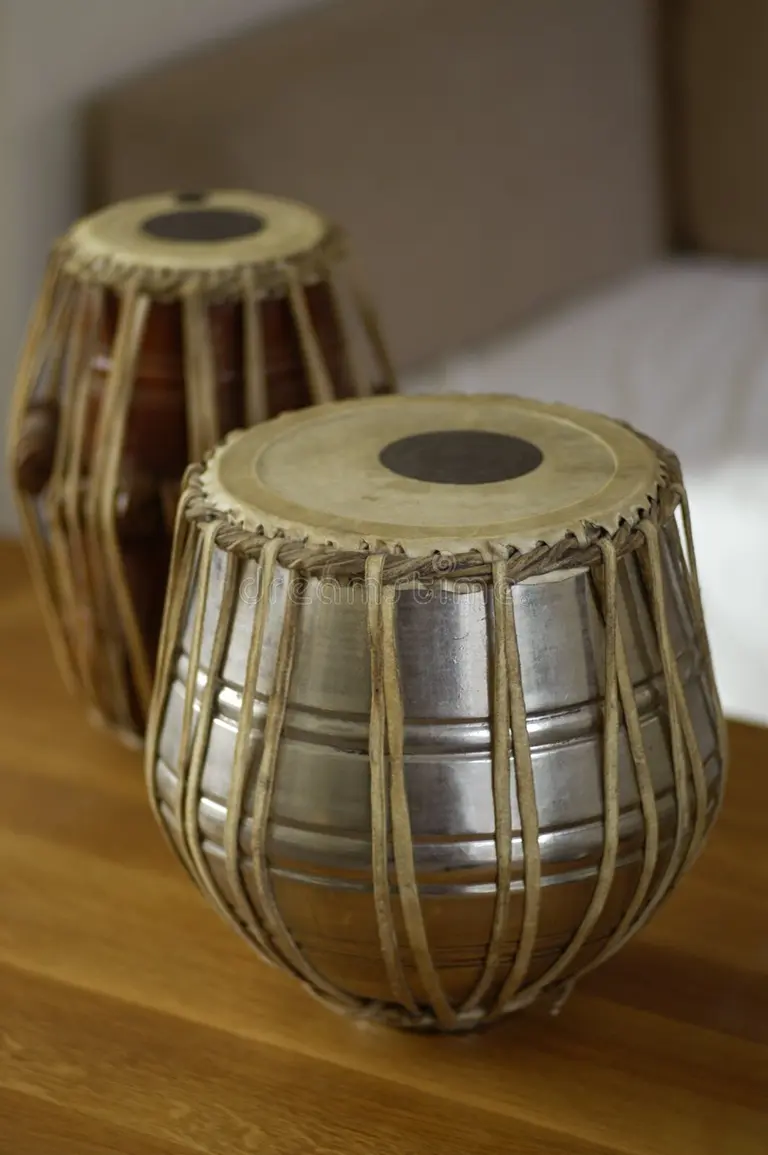tabla: (23, 189, 396, 576), (168, 393, 698, 583)
